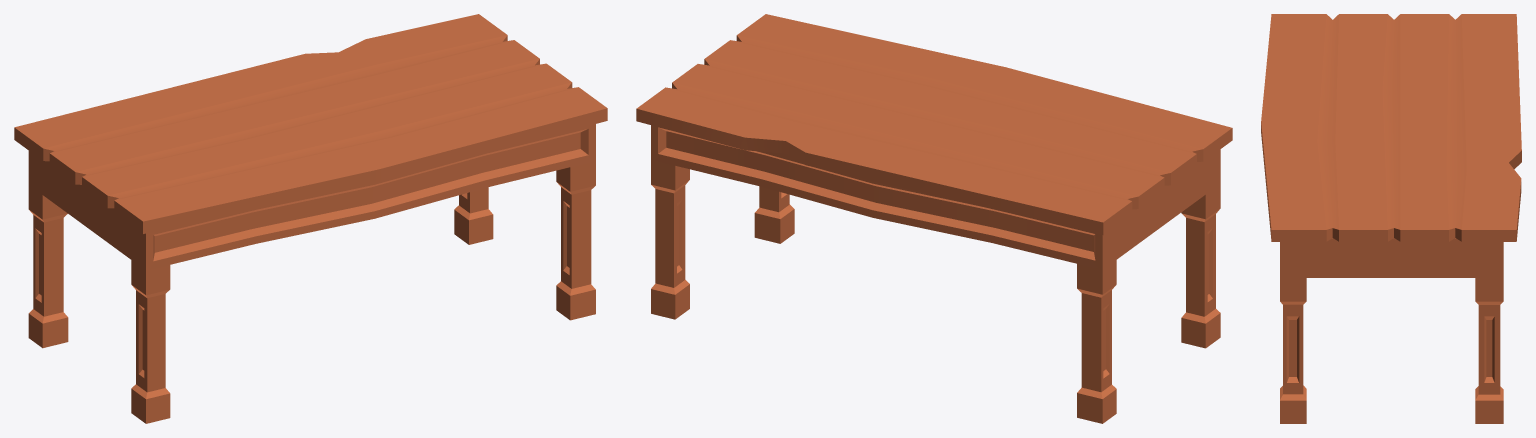
File: SM_Desk.fbx
3 views of the same model, side by side, from view 1: azimuth 30°, elevation 25°; view 2: azimuth 150°, elevation 25°; view 3: azimuth 270°, elevation 25° (orthographic). The views are drawn at different scales.
Visible parts, largest first — view 1: Object002; view 2: Object002; view 3: Object002.
Boxes of the visible parts, bbox=[...] form: Object002: bbox=[14, 14, 607, 423]; Object002: bbox=[636, 14, 1232, 423]; Object002: bbox=[1261, 14, 1521, 423].
Size of the model in its own units: 248 by 106 by 127.
